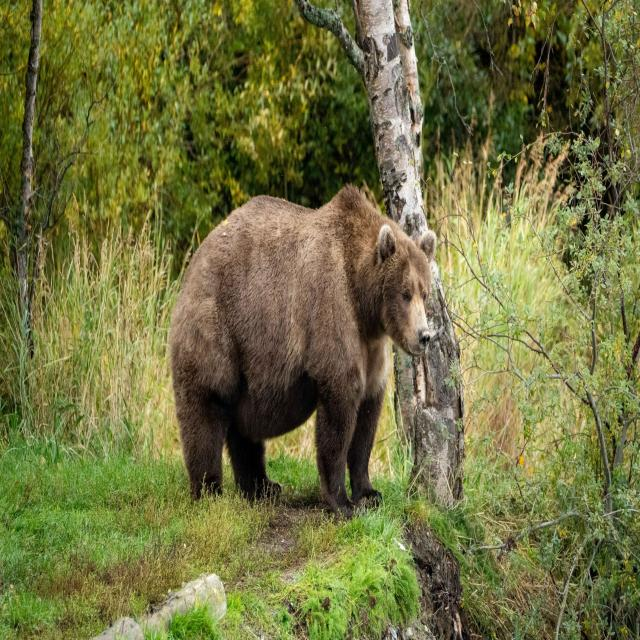Bear: (168, 184, 436, 514)
